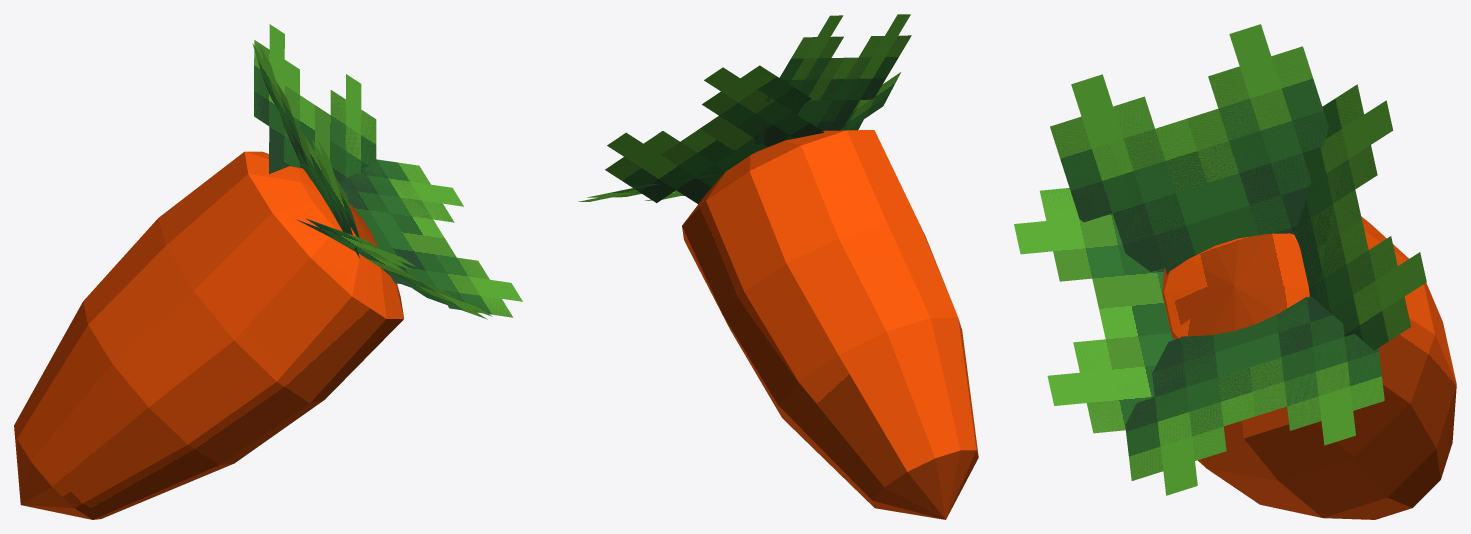
Rendered from cropressed_carrot.obj.
The picture shows the model from 3 angles, left to right: view 1: azimuth 30°, elevation 25°; view 2: azimuth 150°, elevation 25°; view 3: azimuth 270°, elevation 25°; orthographic projection. The views are drawn at different scales.
Parts seen in each view (by area): view 1: cube; view 2: cube; view 3: cube.
Boxes of the visible parts, <box> form: cube: <box>14,24,522,519</box>; cube: <box>578,14,978,519</box>; cube: <box>1014,24,1456,519</box>.
Bounding box in the file's own units: 0.8751 × 0.9328 × 0.6634.
